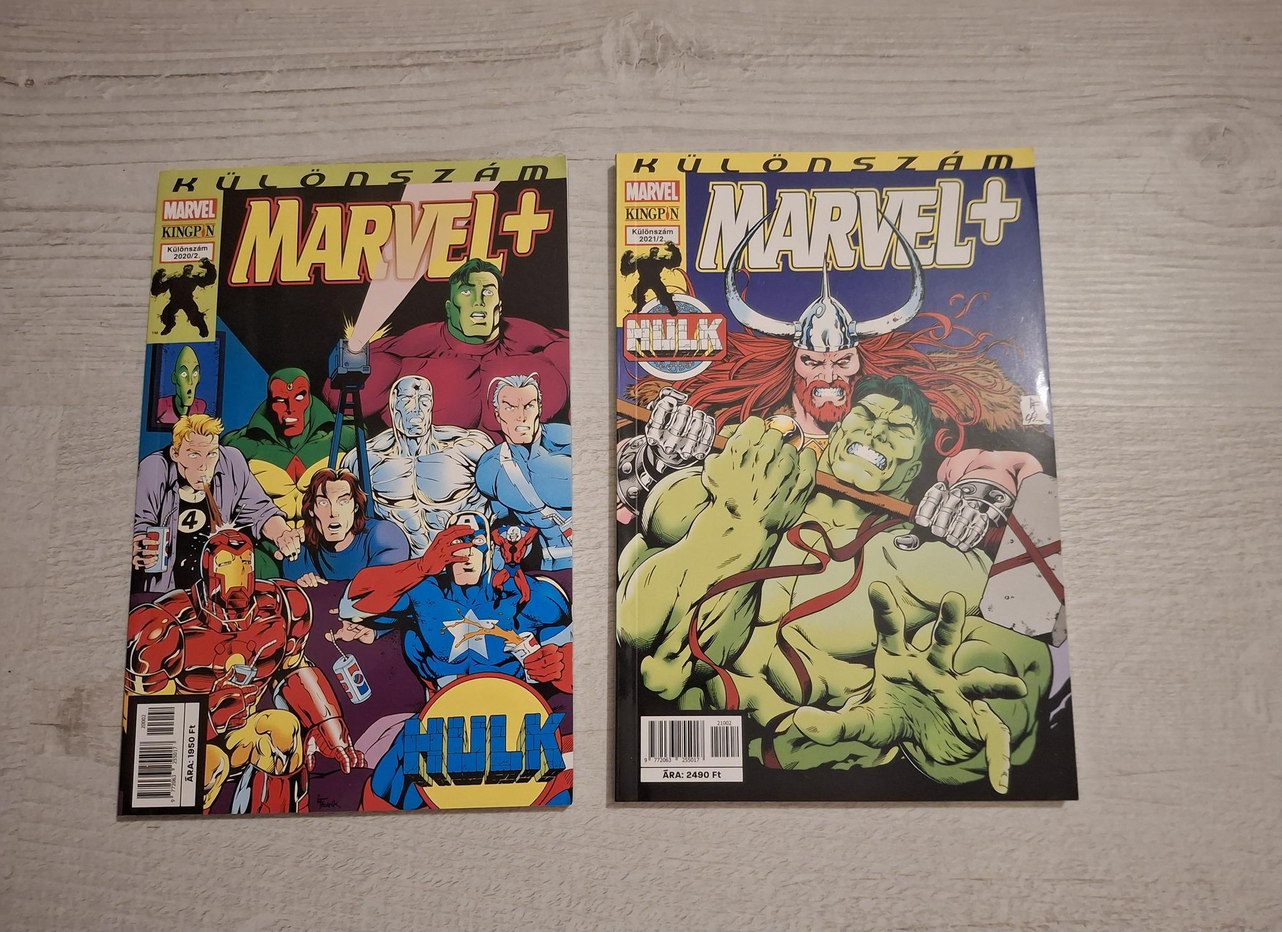comic: (610, 149, 1075, 803), (120, 157, 572, 814)
